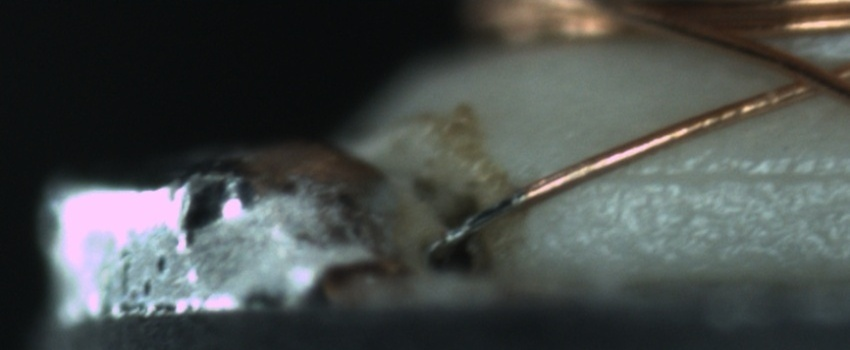CL: (770, 52, 846, 102)
DL: (578, 145, 841, 209)
TS: (429, 188, 524, 255)
TTCW: (431, 176, 538, 251)
